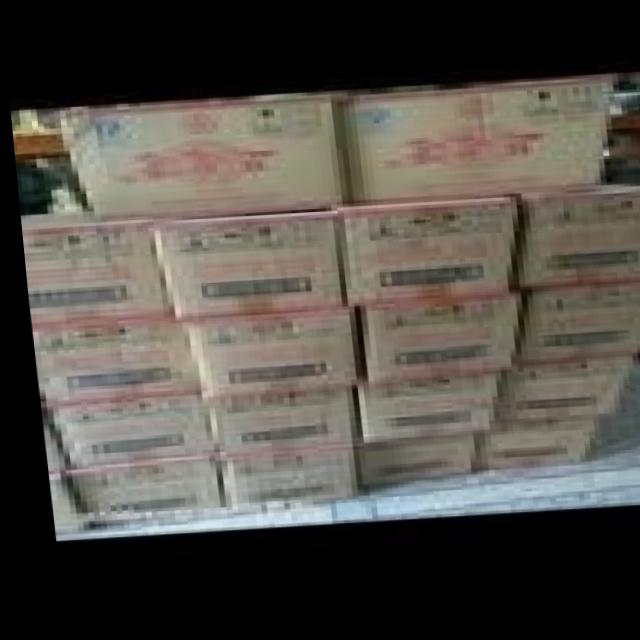box: (343, 82, 609, 207), (51, 102, 332, 220), (148, 213, 332, 321), (332, 201, 505, 309), (17, 223, 175, 334), (353, 294, 508, 387), (186, 312, 343, 401), (508, 187, 640, 291), (26, 326, 187, 410), (39, 401, 194, 470), (509, 290, 640, 370), (56, 460, 204, 530), (486, 361, 630, 430), (349, 380, 493, 449), (194, 393, 349, 457), (211, 452, 347, 511), (466, 422, 589, 472), (343, 443, 467, 487), (45, 476, 73, 538), (33, 416, 56, 471)
